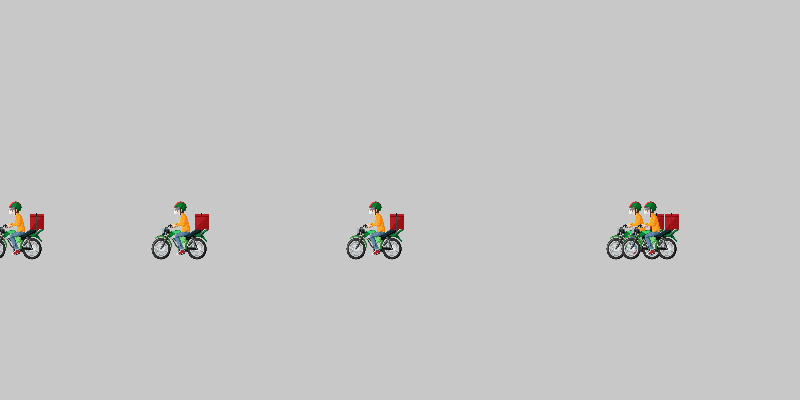helmet: (150, 200, 210, 260), (345, 200, 405, 260), (605, 200, 665, 260), (620, 200, 680, 260), (0, 200, 45, 260)
